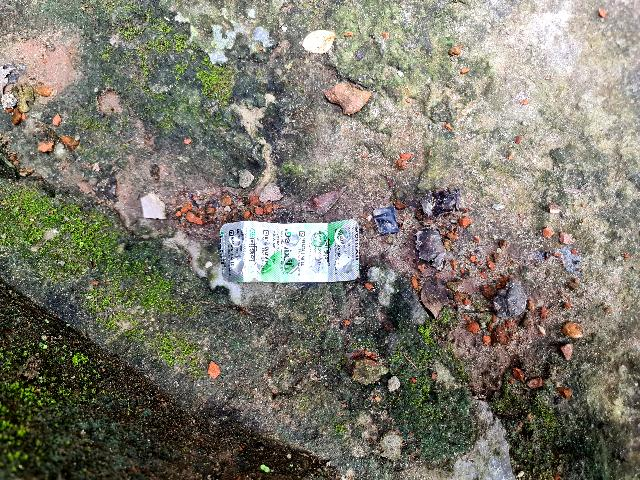medicine: (212, 206, 376, 297)
